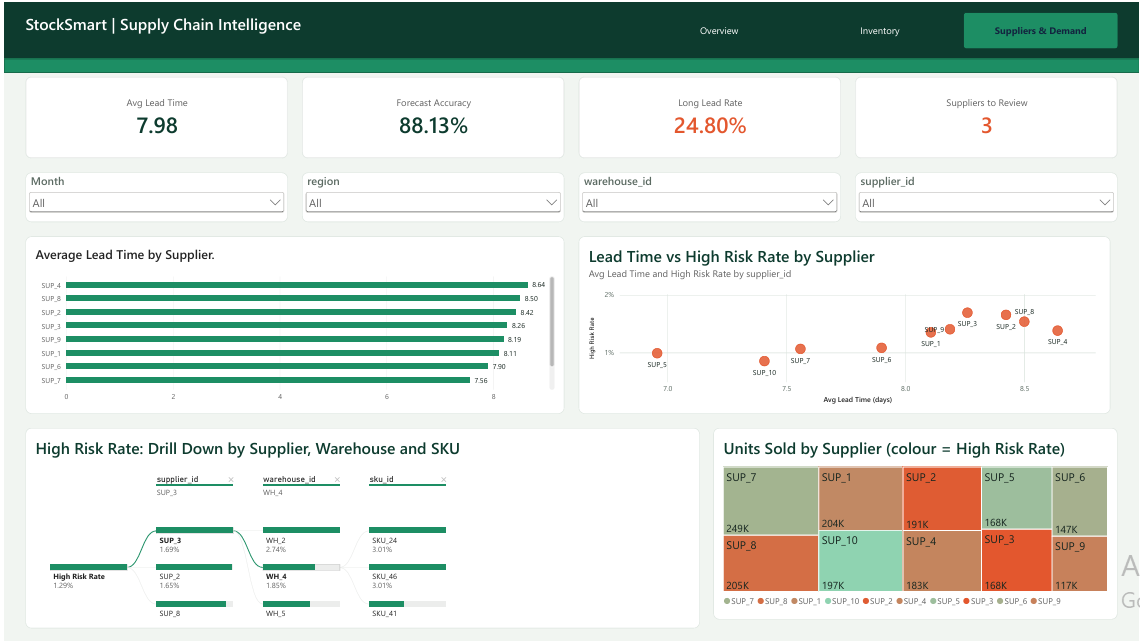

This screenshot's page, from the dashboard's own definition file:
{"tool":"powerbi","page":{"name":"Suppliers & Demand","canvas":[1920,1080],"ordinal":2},"visuals":[{"type":"shape","box":[0,0,1921,96],"z":0},{"type":"textbox","box":[36,18,900,60],"z":1000},{"type":"shape","box":[0,96,1921,23.1],"z":2000},{"type":"pageNavigator","box":[1080,18,804,60],"z":3000},{"type":"cardVisual","fields":{"Data":["inventory_enriched.Avg Lead Time"]},"box":[36,126,444,138],"z":4000},{"type":"cardVisual","fields":{"Data":["inventory_enriched.Forecast Accuracy"]},"box":[504,126,444,138],"z":5000},{"type":"cardVisual","fields":{"Data":["inventory_enriched.Long Lead Rate"]},"box":[972,126,444,138],"z":6000},{"type":"cardVisual","fields":{"Data":["inventory_enriched.Suppliers to Review"]},"box":[1440,126,444,138],"z":6001},{"type":"slicer","fields":{"Values":["Calendar.Month"]},"box":[36,288,444,84],"z":6002},{"type":"slicer","fields":{"Values":["inventory_enriched.region"]},"box":[504,288,444,84],"z":6003},{"type":"slicer","fields":{"Values":["inventory_enriched.warehouse_id"]},"box":[972,288,444,84],"z":6004},{"type":"slicer","fields":{"Values":["inventory_enriched.supplier_id"]},"box":[1440,288,444,84],"z":6005},{"type":"clusteredBarChart","title":"Average Lead Time by Supplier.","fields":{"Category":["inventory_enriched.supplier_id"],"Y":["inventory_enriched.Avg Lead Time"]},"box":[36,396,912,300],"z":6006},{"type":"scatterChart","title":"Lead Time vs High Risk Rate by Supplier","fields":{"Category":["inventory_enriched.supplier_id"],"X":["inventory_enriched.Avg Lead Time"],"Y":["inventory_enriched.High Risk Rate"]},"box":[972,396,900,300],"z":6008},{"type":"decompositionTreeVisual","title":"High Risk Rate: Drill Down by Supplier, Warehouse and SKU","fields":{"Analyze":["inventory_enriched.High Risk Rate"],"ExplainBy":["inventory_enriched.supplier_id","inventory_enriched.warehouse_id","inventory_enriched.sku_id"]},"box":[35.5,720,1141.6,338.7],"z":6009},{"type":"treemap","title":"Units Sold by Supplier (colour = High Risk Rate)","fields":{"Group":["inventory_enriched.supplier_id"],"Values":["inventory_enriched.Total Units Sold"]},"box":[1200,720,684,324],"z":6010}]}

Visuals, with their boxes on the page's 1920x1080 design canvas (x1, y1, x2, y2). These are canvas units, not pixel positions in the 1140x643 screenshot, which may show the page scaled, cropped or inside an application window:
shape: [0,0,1921,96]
textbox: [36,18,936,78]
shape: [0,96,1921,119]
pageNavigator: [1080,18,1884,78]
cardVisual - inventory_enriched.Avg Lead Time: [36,126,480,264]
cardVisual - inventory_enriched.Forecast Accuracy: [504,126,948,264]
cardVisual - inventory_enriched.Long Lead Rate: [972,126,1416,264]
cardVisual - inventory_enriched.Suppliers to Review: [1440,126,1884,264]
slicer - Calendar.Month: [36,288,480,372]
slicer - inventory_enriched.region: [504,288,948,372]
slicer - inventory_enriched.warehouse_id: [972,288,1416,372]
slicer - inventory_enriched.supplier_id: [1440,288,1884,372]
"Average Lead Time by Supplier." clusteredBarChart: [36,396,948,696]
"Lead Time vs High Risk Rate by Supplier" scatterChart: [972,396,1872,696]
"High Risk Rate: Drill Down by Supplier, Warehouse and SKU" decompositionTreeVisual: [36,720,1177,1059]
"Units Sold by Supplier (colour = High Risk Rate)" treemap: [1200,720,1884,1044]
